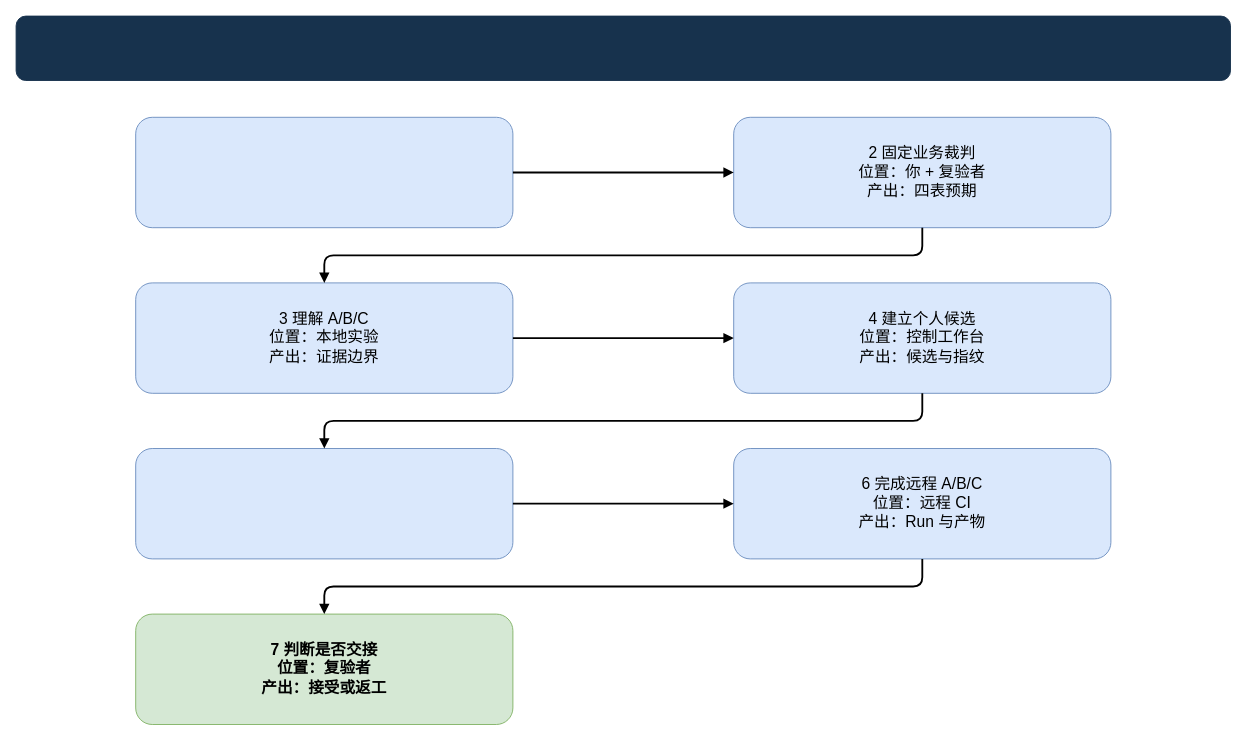
This 1247x741 diagram has some shape labels left out. The box of each missing label's shape, as (x1, y1, x2, y2) in pixels:
1 固定环境与候选 位置：控制仓库 产出：共同起点: (135, 116, 513, 228)
5 准备 A/B 流程 位置：候选仓库 产出：CI 规则: (135, 448, 513, 559)
L08 实践路线：按顺序操作，每一步都留下实际结果: (15, 15, 1230, 80)
